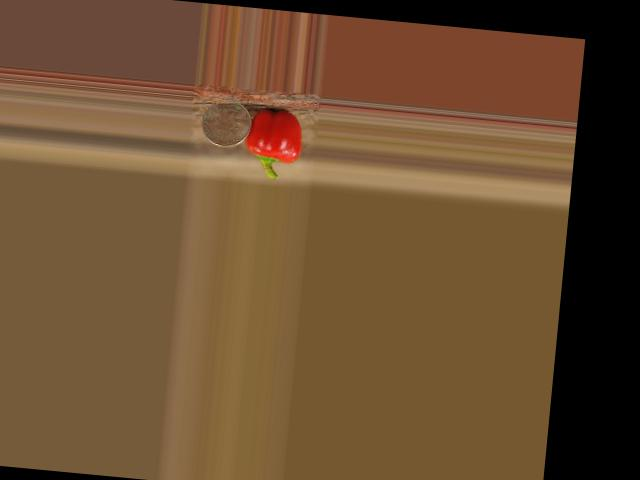bell_pepper: (244, 104, 305, 181)
